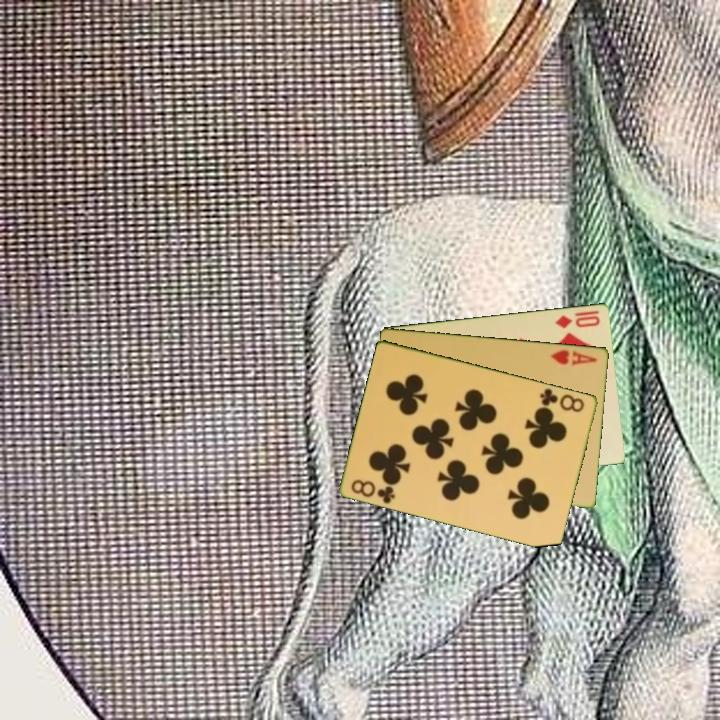10d: (552, 311, 603, 331)
8c: (348, 475, 399, 506), (537, 384, 587, 415)
Ah: (547, 346, 600, 368)
